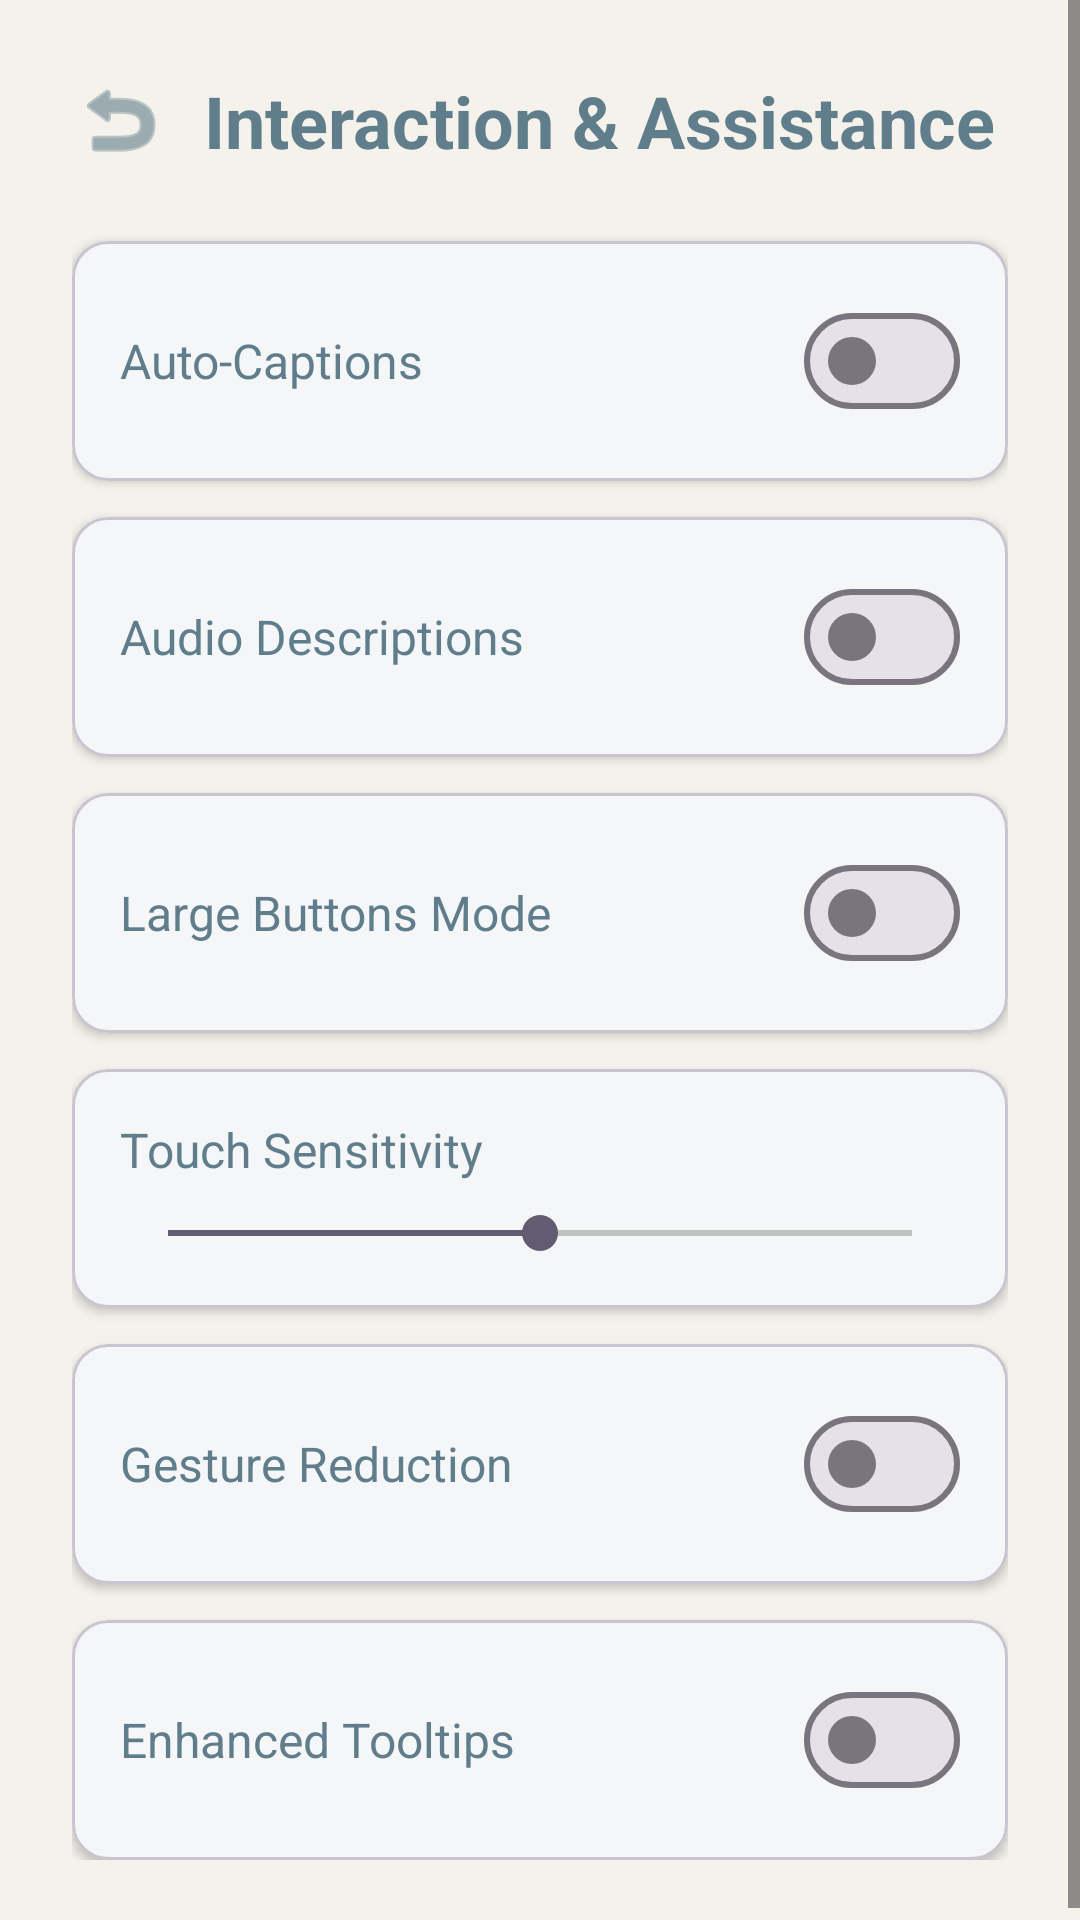

Locate icon controls on the screen. Image size 1080x1920, boxes as {"x1": x1, "y1": y1, "x2": x2, "y2": y2}.
revert: {"x1": 87, "y1": 90, "x2": 156, "y2": 152}
